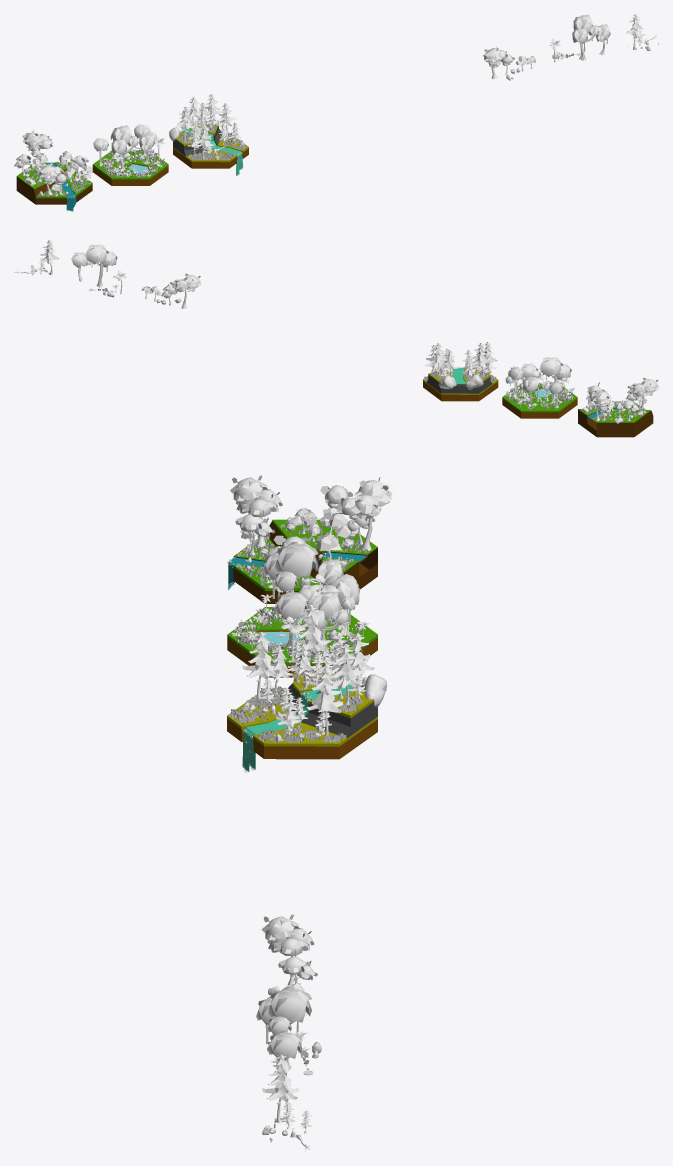
File: Nature-forest.glb
3 renders of one model, top to bottom at view 1: azimuth 30°, elevation 25°; view 2: azimuth 150°, elevation 25°; view 3: azimuth 270°, elevation 25°, orthographic. The views are drawn at different scales.
Parts seen in each view (by area): view 1: Cylinder.056, Cylinder.017, Cylinder.004, Cylinder.1291, Cylinder.060, Cylinder.1285, Cylinder.057, Cylinder.048; view 2: Cylinder.056, Cylinder.004, Cylinder.017, Cylinder.1291, Cylinder.1285, Cylinder.057, Cylinder.060; view 3: Cylinder.017, Cylinder.056, Cylinder.004, Cylinder.1291, Cylinder.060, Cylinder.057, Cylinder.1285, Cylinder.048, Cylinder.1296.
Boxes of the visible parts, box(x1,y1,x2,y2) form: Cylinder.056: box(16, 162, 92, 204); Cylinder.017: box(173, 123, 248, 168); Cylinder.004: box(92, 150, 168, 185); Cylinder.1291: box(572, 14, 599, 60); Cylinder.060: box(22, 130, 52, 163); Cylinder.1285: box(482, 46, 508, 79); Cylinder.057: box(37, 163, 63, 195); Cylinder.048: box(181, 129, 242, 175); Cylinder.056: box(578, 401, 653, 437); Cylinder.004: box(502, 383, 577, 418); Cylinder.017: box(423, 366, 498, 401); Cylinder.1291: box(85, 244, 117, 287); Cylinder.1285: box(170, 273, 201, 308); Cylinder.057: box(627, 377, 658, 409); Cylinder.060: box(587, 389, 611, 421); Cylinder.017: box(227, 672, 377, 759); Cylinder.056: box(233, 519, 377, 603); Cylinder.004: box(227, 607, 377, 677); Cylinder.1291: box(256, 986, 311, 1071); Cylinder.060: box(336, 477, 392, 551); Cylinder.057: box(230, 475, 282, 547); Cylinder.1285: box(261, 914, 314, 985); Cylinder.048: box(242, 684, 361, 771); Cylinder.1296: box(262, 1054, 298, 1123).
Bounding box in the file's own units: 449 × 44.99 × 67.5.
